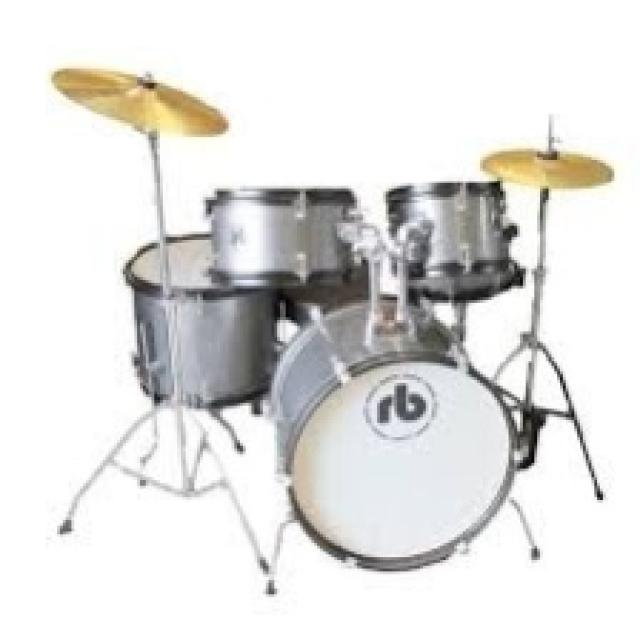drums: (44, 66, 619, 571)
